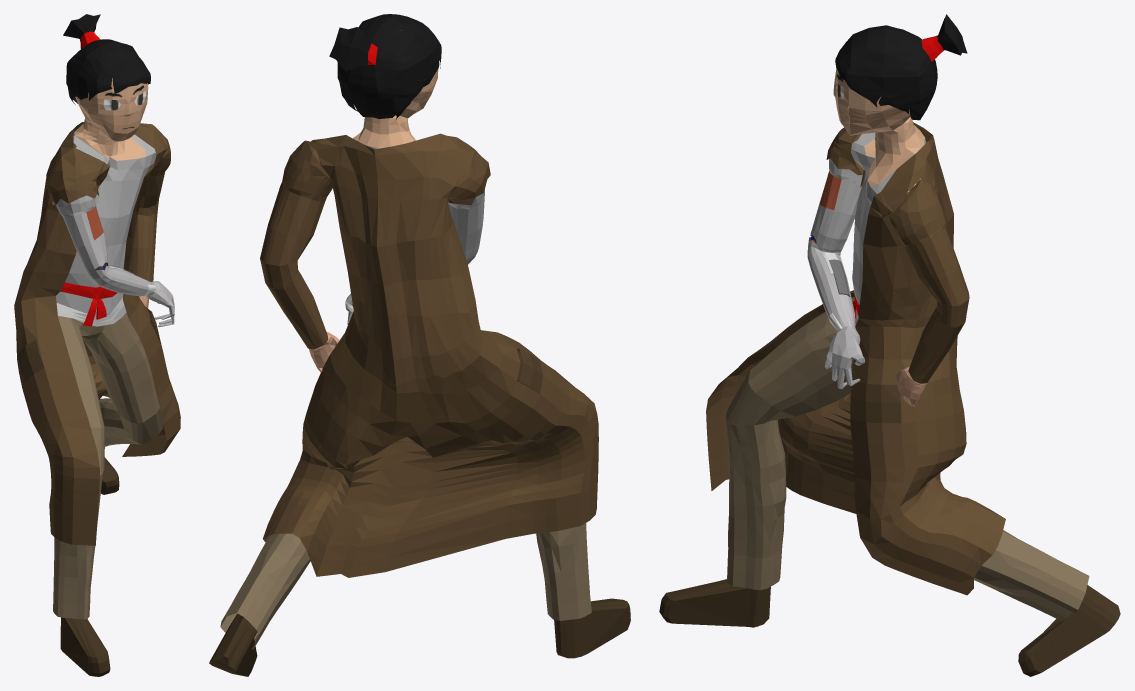
File: One_RR_000017.obj
The picture shows the model from 3 angles, left to right: view 1: azimuth 30°, elevation 25°; view 2: azimuth 150°, elevation 25°; view 3: azimuth 270°, elevation 25°; orthographic projection. The views are drawn at different scales.
Visible parts, largest first — view 1: Hair_Cube.004; view 2: Hair_Cube.004; view 3: Hair_Cube.004.
Part boxes in pixels (x1=…): Hair_Cube.004: x1=14, y1=14, x2=180, y2=676; Hair_Cube.004: x1=209, y1=14, x2=630, y2=676; Hair_Cube.004: x1=659, y1=14, x2=1120, y2=676.
Bounding box in the file's own units: 1.29 × 3.62 × 2.3.
